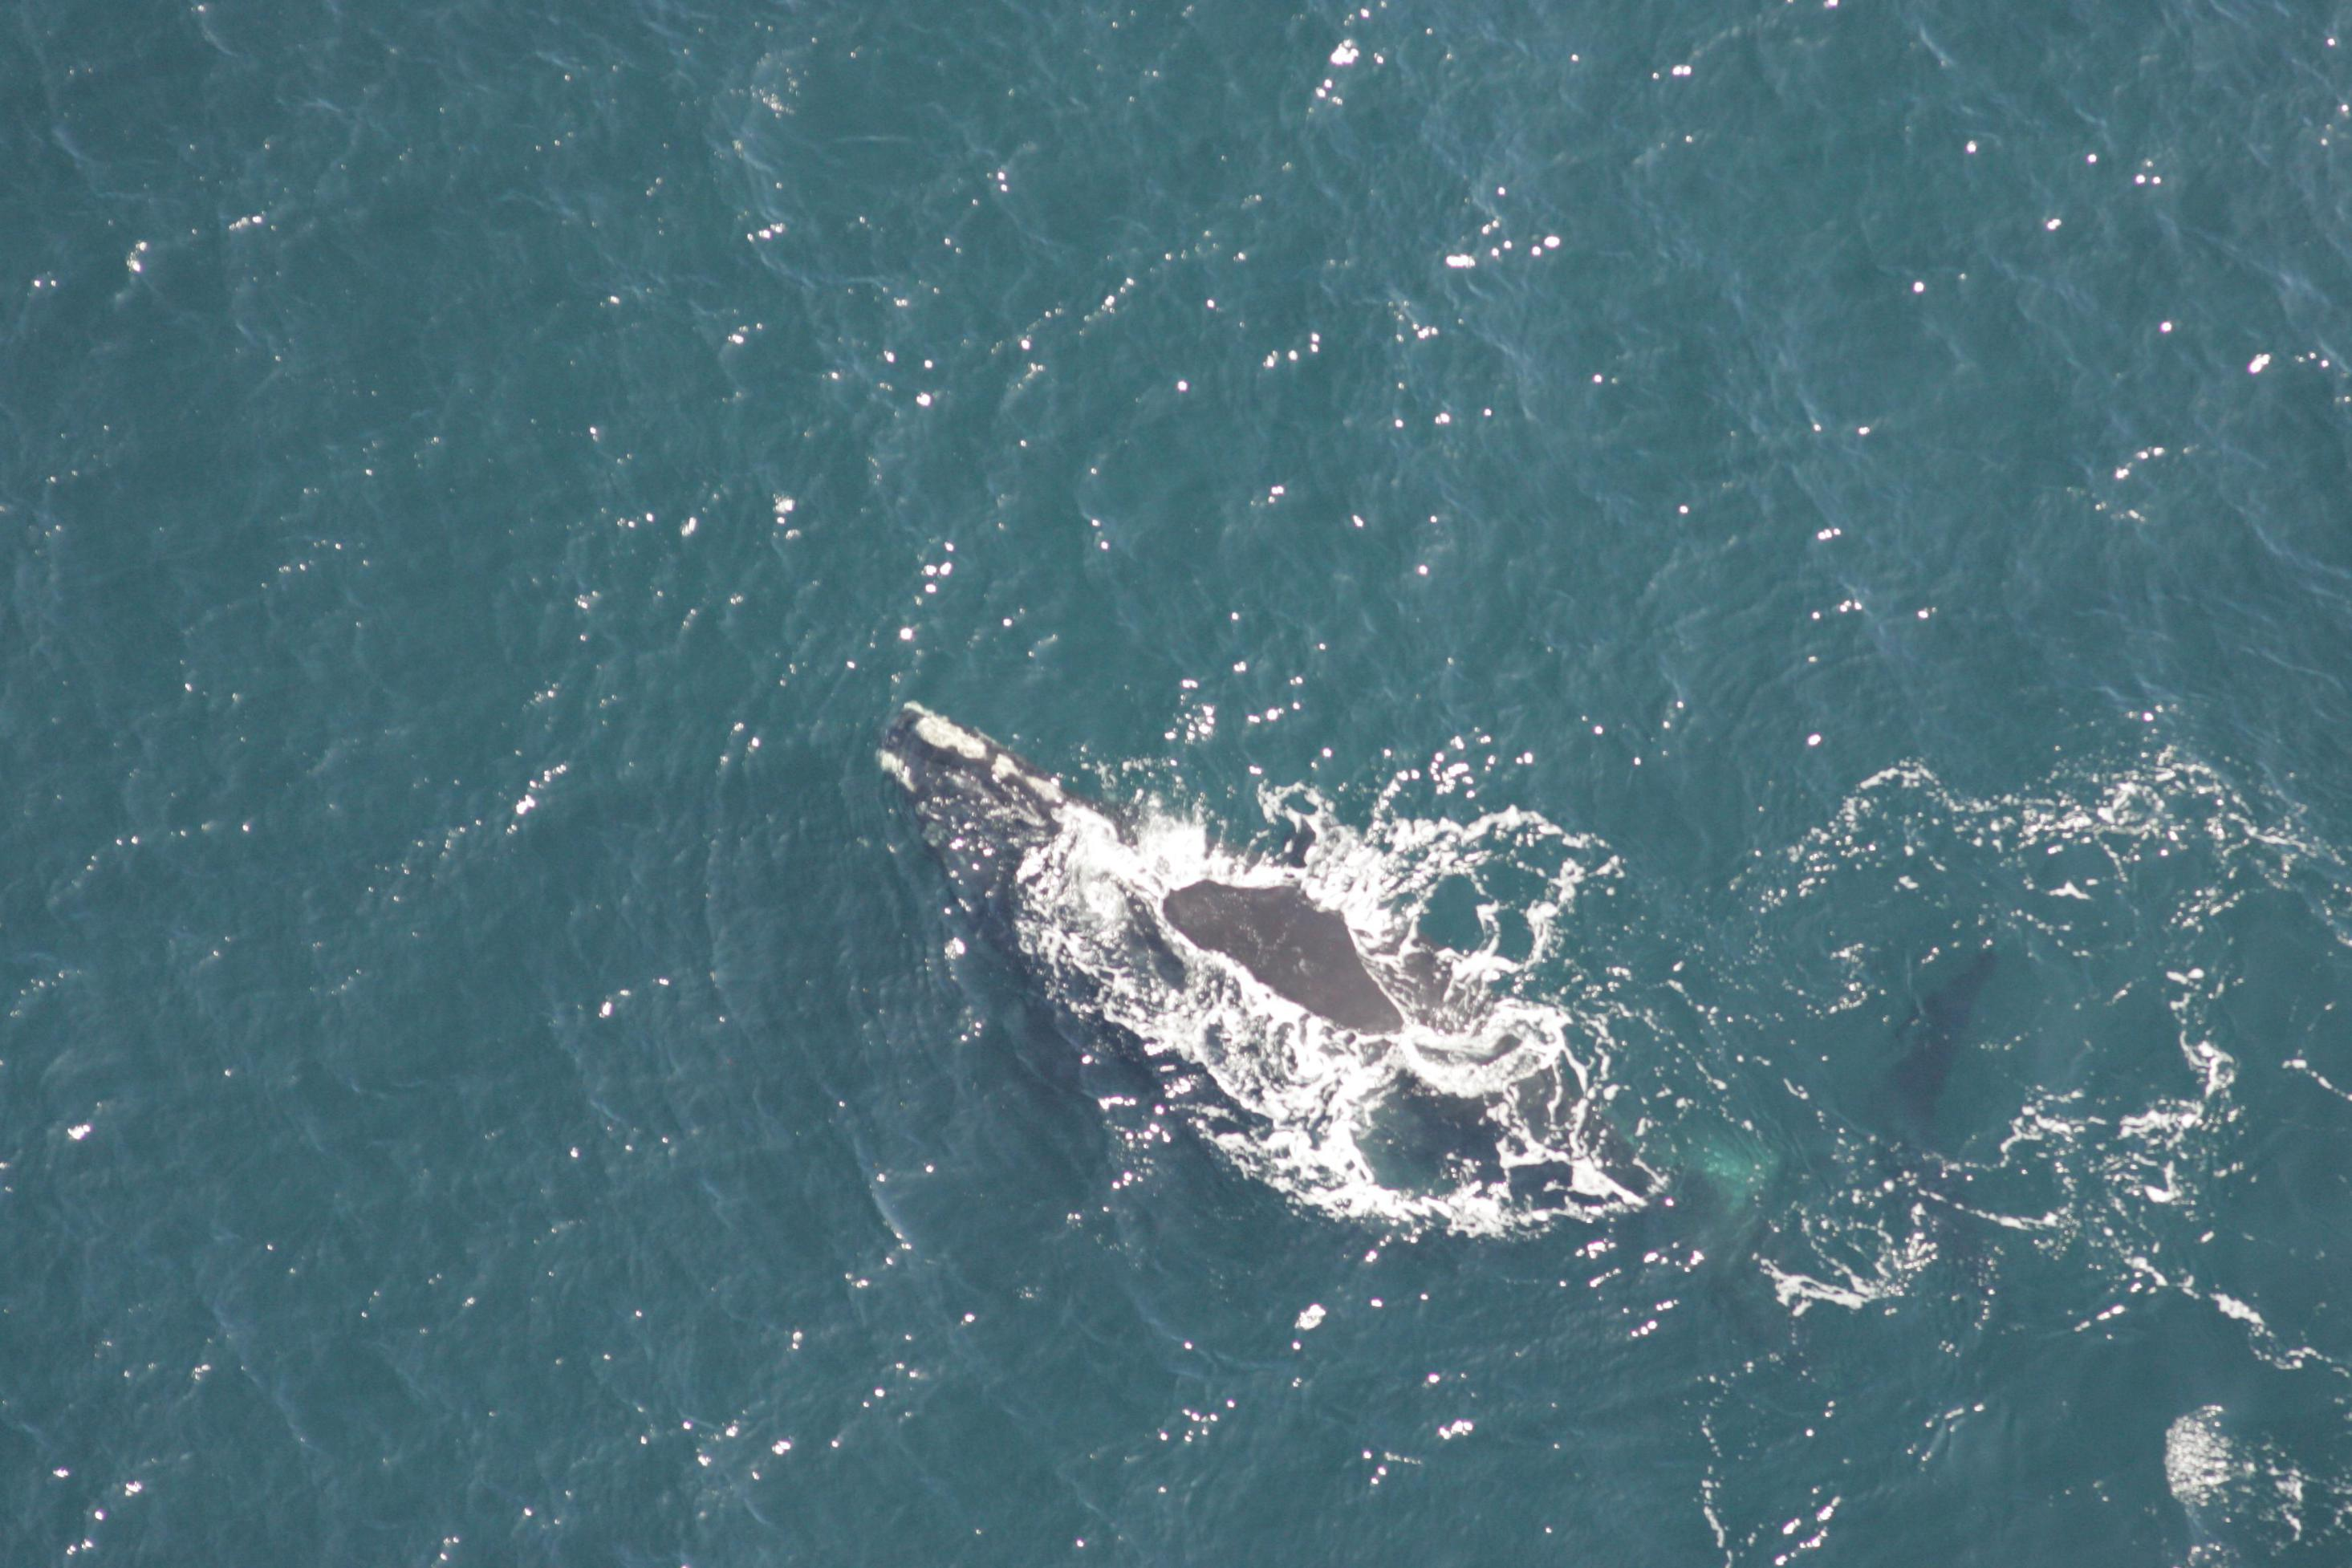whale: (870, 690, 1986, 1274)
